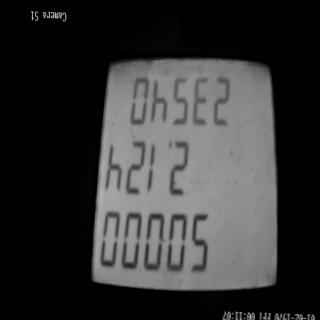screen: (82, 22, 293, 320)
